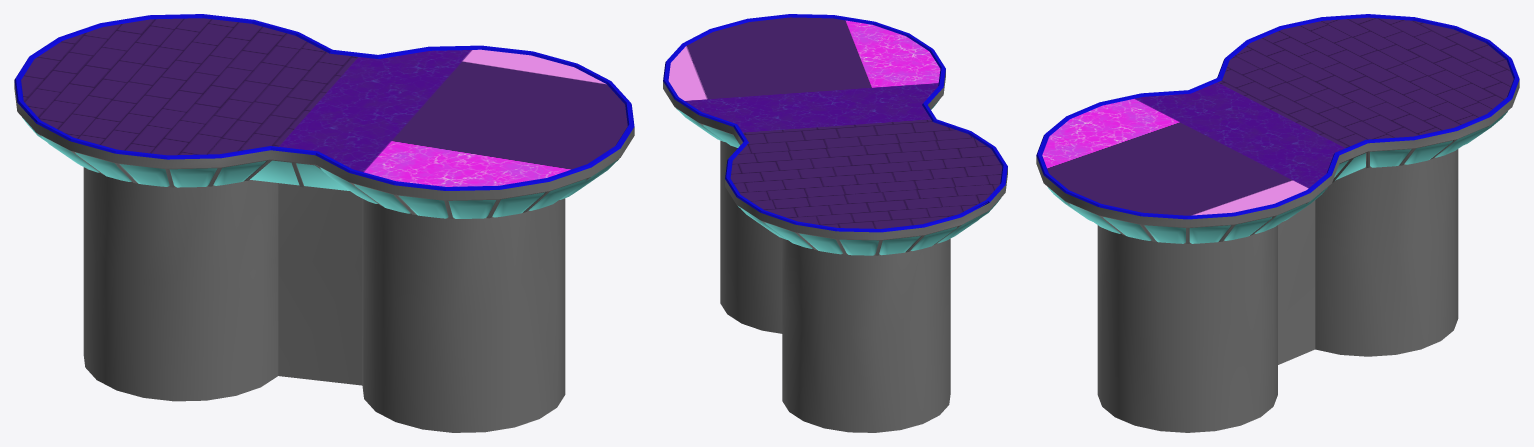
File: observation_lounge.fbx
3 renders of one model, left to right at view 1: azimuth 30°, elevation 25°; view 2: azimuth 150°, elevation 25°; view 3: azimuth 270°, elevation 25°, orthographic. The views are drawn at different scales.
Visible parts, largest first — view 1: tower_base, tower_glass001, Roof_decoration, tower_interior_frame; view 2: tower_base, Roof_decoration, tower_glass001, tower_interior_frame; view 3: tower_base, Roof_decoration, tower_glass001, tower_interior_frame.
Part boxes in pixels (x1,y1,x2,y2): tower_base: (14,18,634,432); tower_glass001: (22,117,618,218); Roof_decoration: (14,14,634,190); tower_interior_frame: (37,133,590,218); tower_base: (663,17,1007,432); Roof_decoration: (663,14,1007,232); tower_glass001: (676,100,1001,255); tower_interior_frame: (678,109,987,255); tower_base: (1036,17,1519,432); Roof_decoration: (1036,14,1519,219); tower_glass001: (1048,111,1507,243); tower_interior_frame: (1066,125,1489,243).
Bounding box in the file's own units: 4222 × 2324 × 4222.
